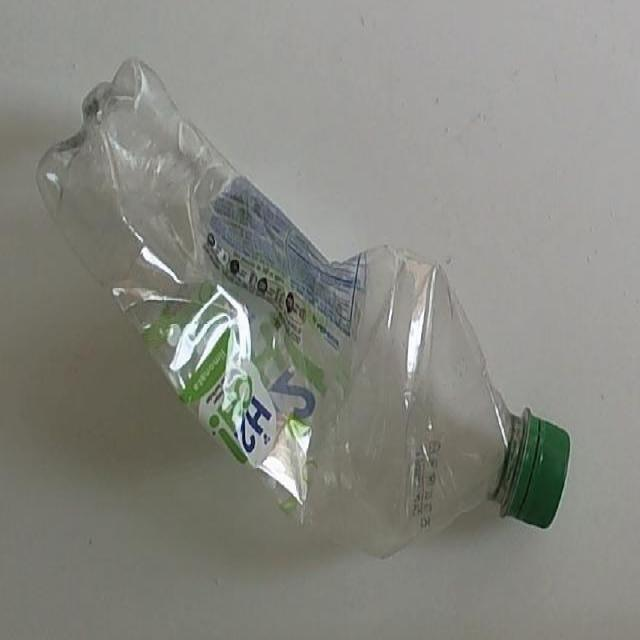defect: (32, 52, 573, 565)
